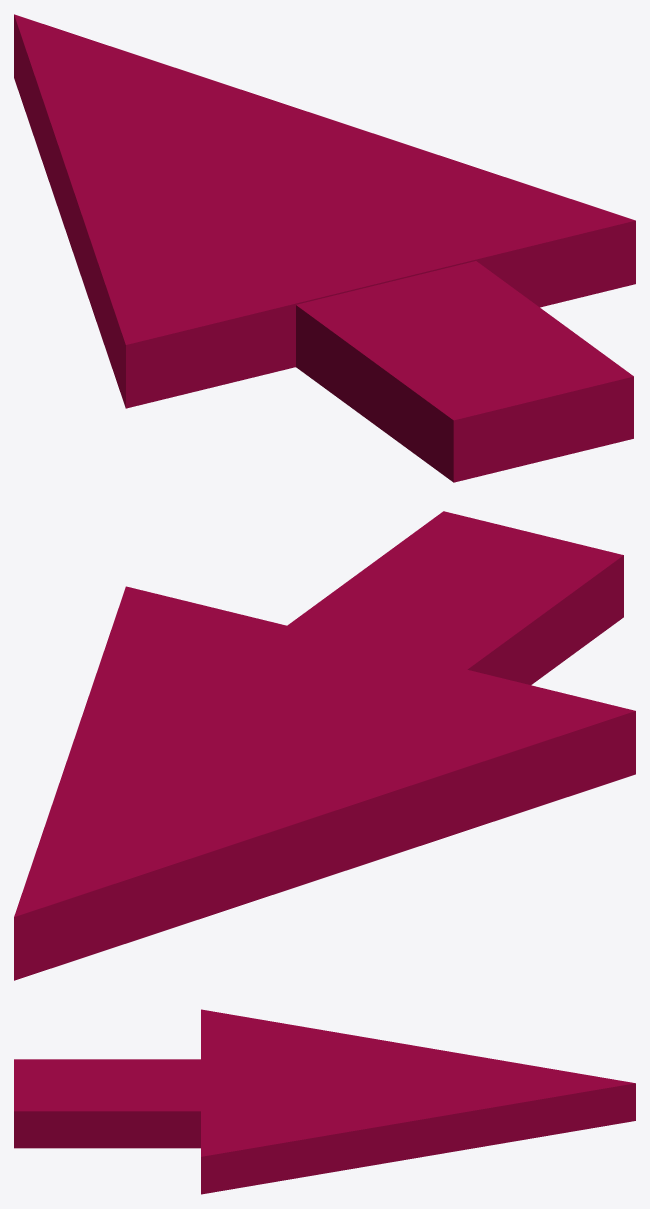
File: asset.glb
3 views of the same model, one above another, from view 1: azimuth 30°, elevation 25°; view 2: azimuth 150°, elevation 25°; view 3: azimuth 270°, elevation 25° (orthographic). The views are drawn at different scales.
Bounding box in the file's own units: 0.1181 × 0.0141 × 0.2104.
